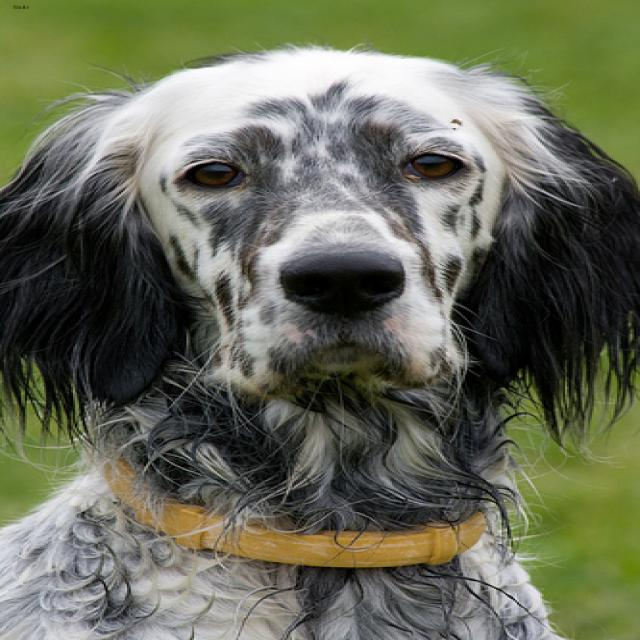dog-english_setter: (2, 26, 636, 637)
